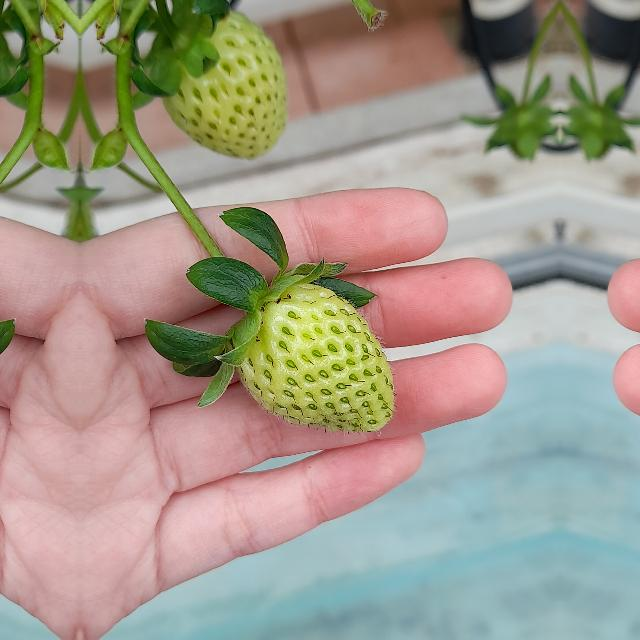Health_25: (234, 283, 394, 431), (162, 27, 284, 159)
